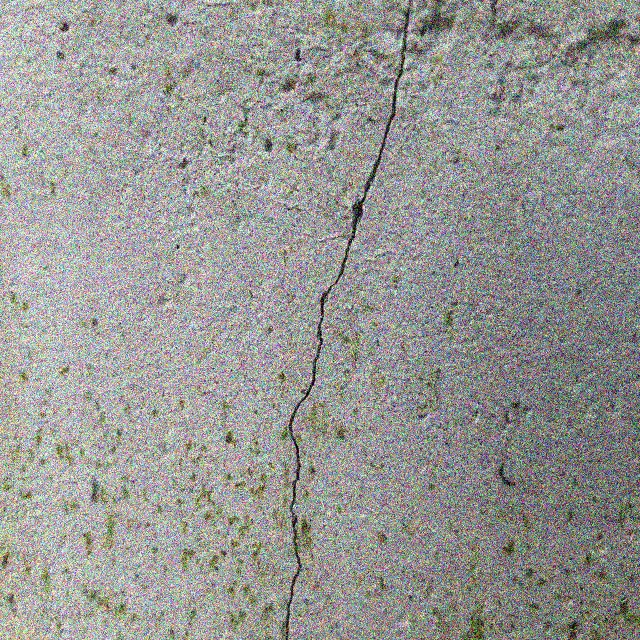SurfaceCrack: (242, 0, 450, 640)
